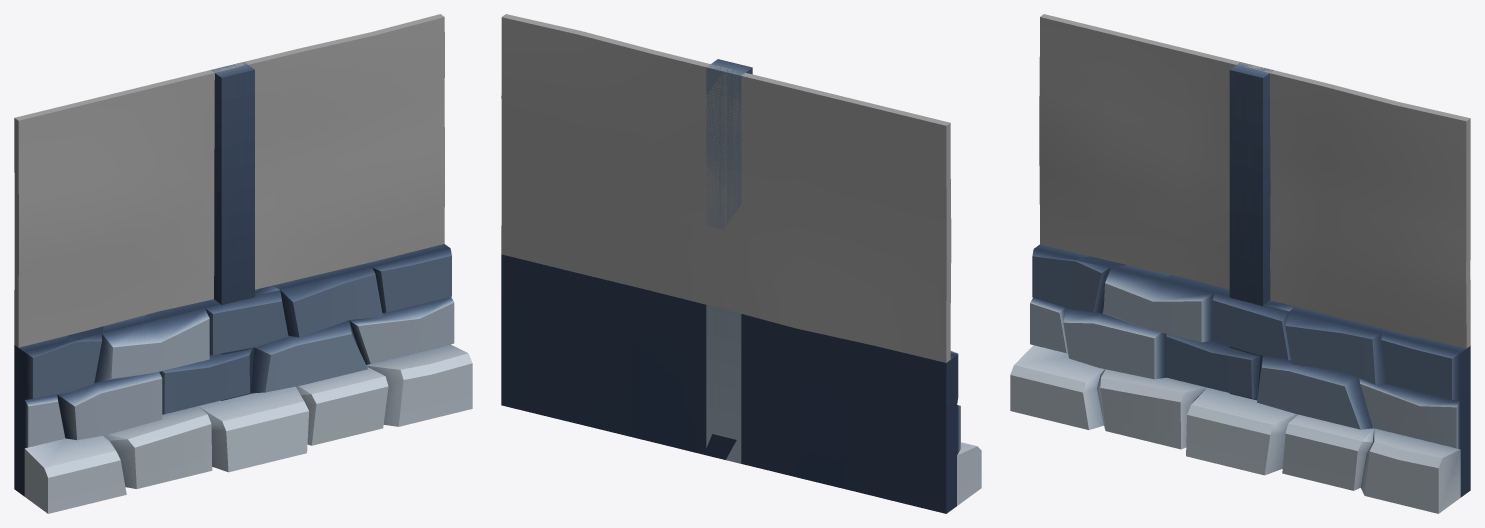
The model's file is ClayWall.fbx.
The picture shows the model from 3 angles, left to right: view 1: azimuth 30°, elevation 25°; view 2: azimuth 150°, elevation 25°; view 3: azimuth 330°, elevation 25°; orthographic projection. The views are drawn at different scales.
Parts seen in each view (by area): view 1: polySurface17; view 2: polySurface17; view 3: polySurface17.
Boxes of the visible parts, x1=… form: polySurface17: x1=14, y1=14, x2=472, y2=513; polySurface17: x1=501, y1=14, x2=981, y2=513; polySurface17: x1=1010, y1=14, x2=1470, y2=513.
Size of the model in its own units: 6 by 5 by 0.9345.
